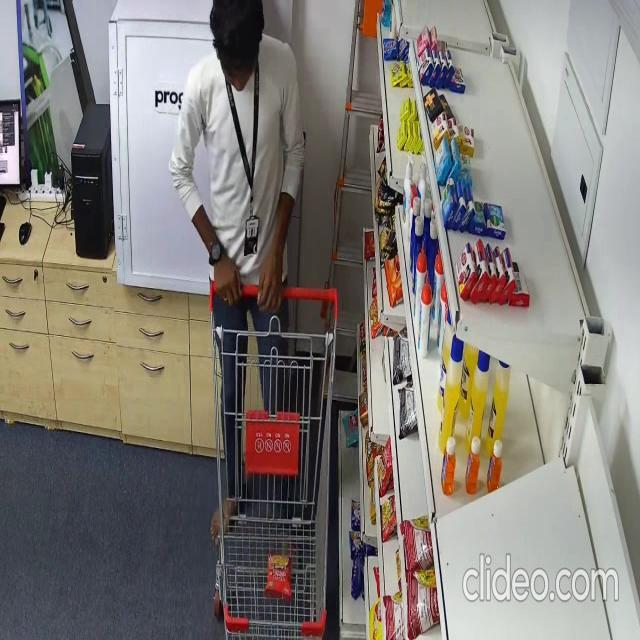normal: (171, 0, 304, 551)
